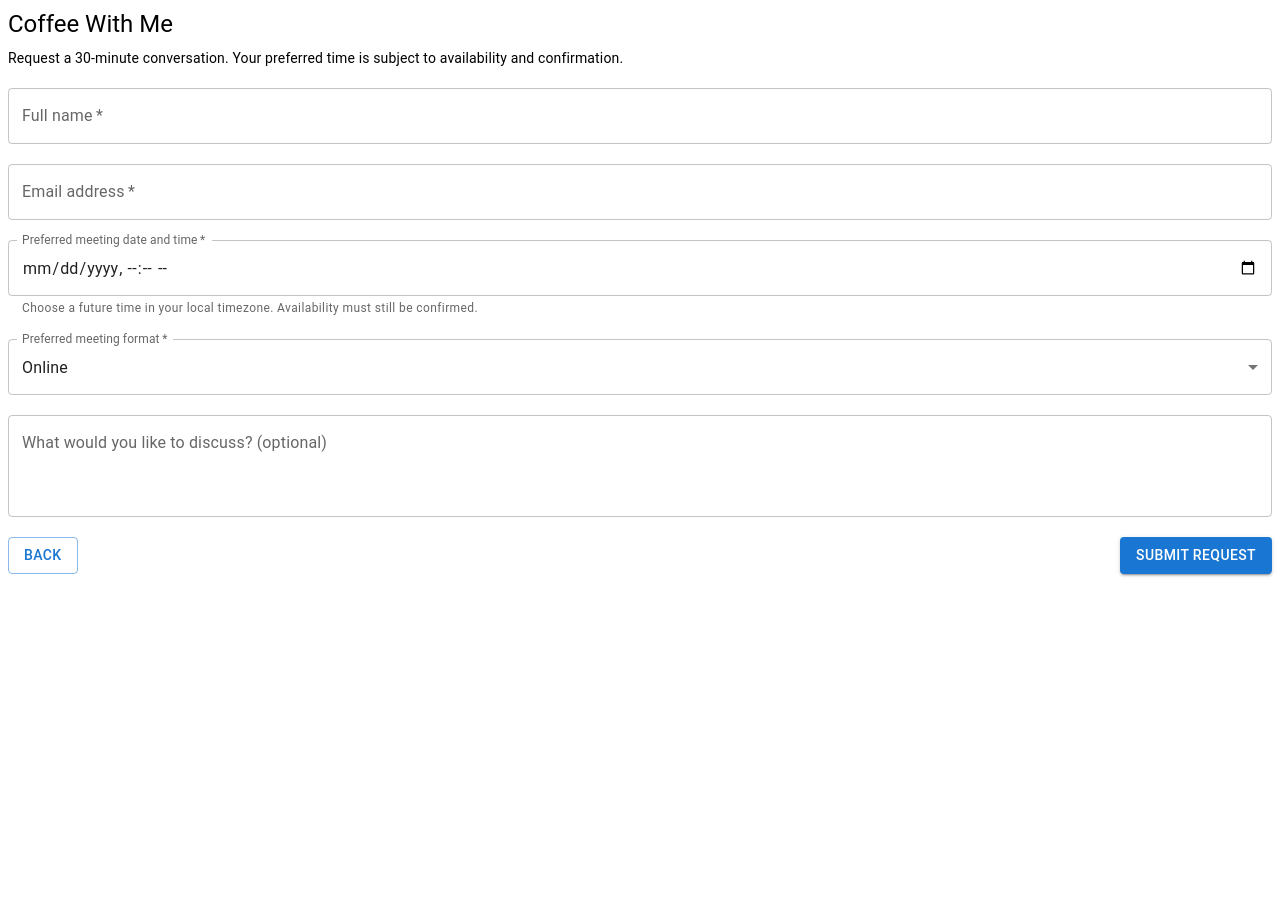
CoffeeWithMeForm › shows a validation error for an invalid email
Type "Test User" into the field labelled "Full name *".
click(640, 116); type("Test User")  # box [8,88,1272,144]
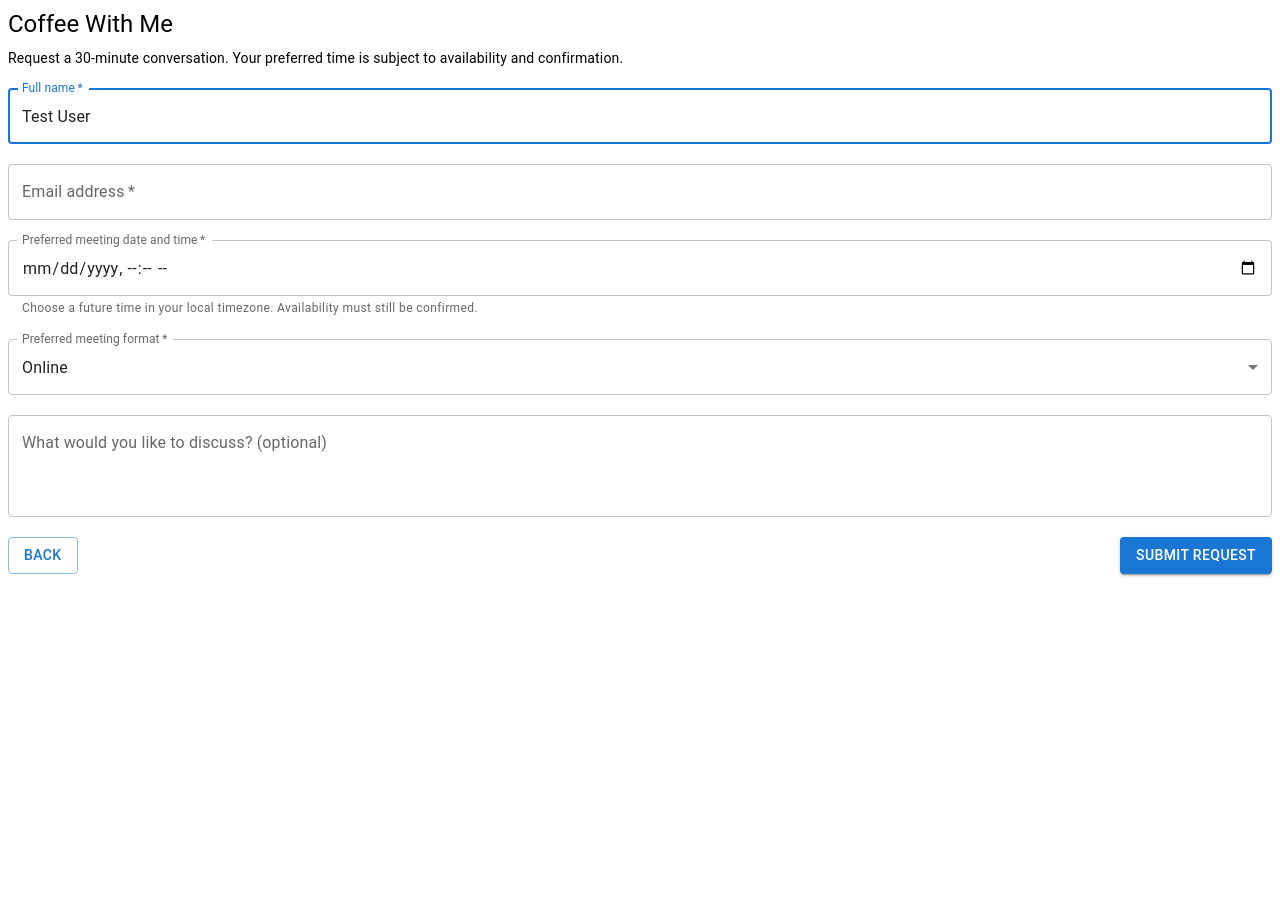
Type "invalid-email" into the field labelled "Email address *".
click(640, 192); type("invalid-email")  # box [8,164,1272,220]
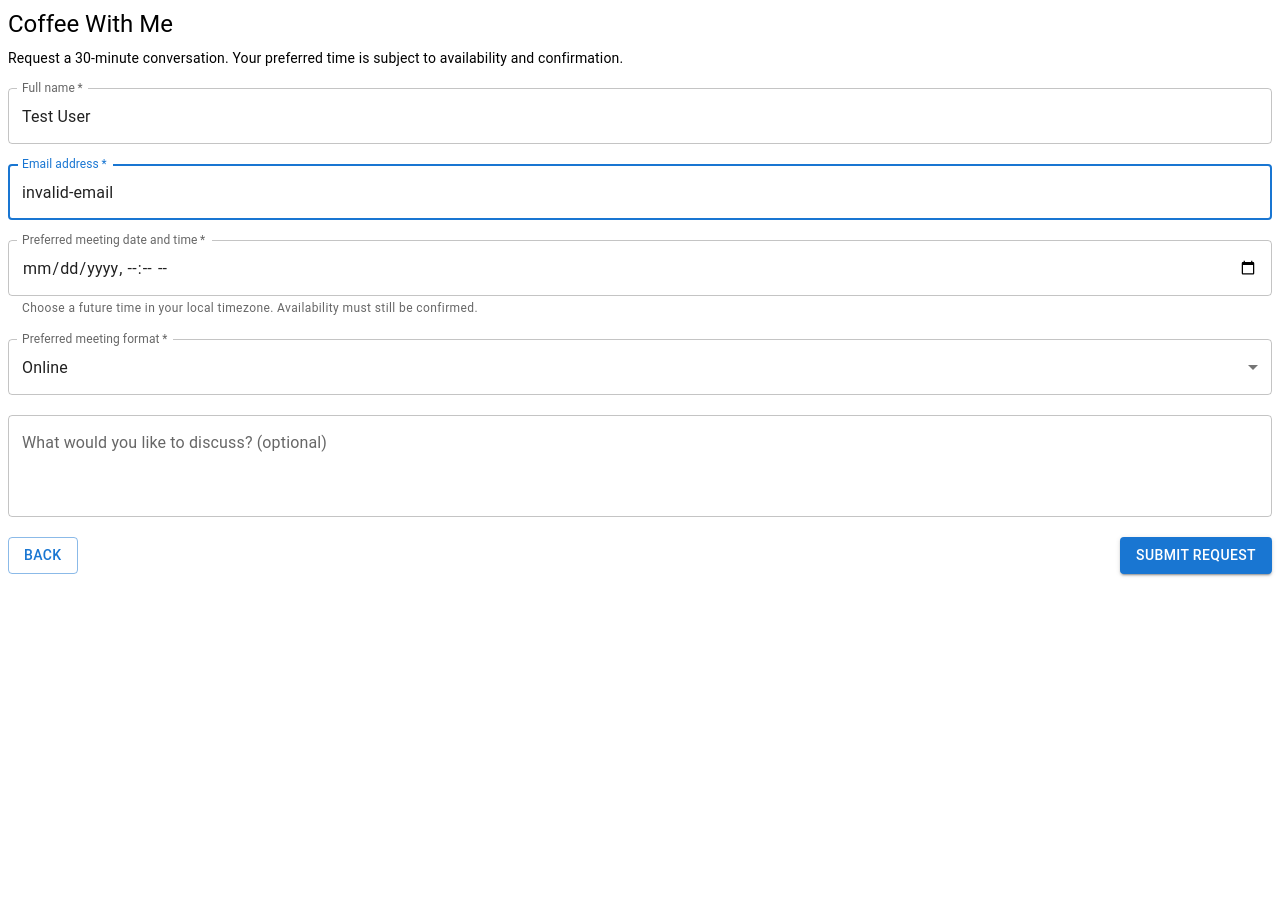
Click the button "Submit request".
click(1196, 556)  # box [1120,537,1272,574]
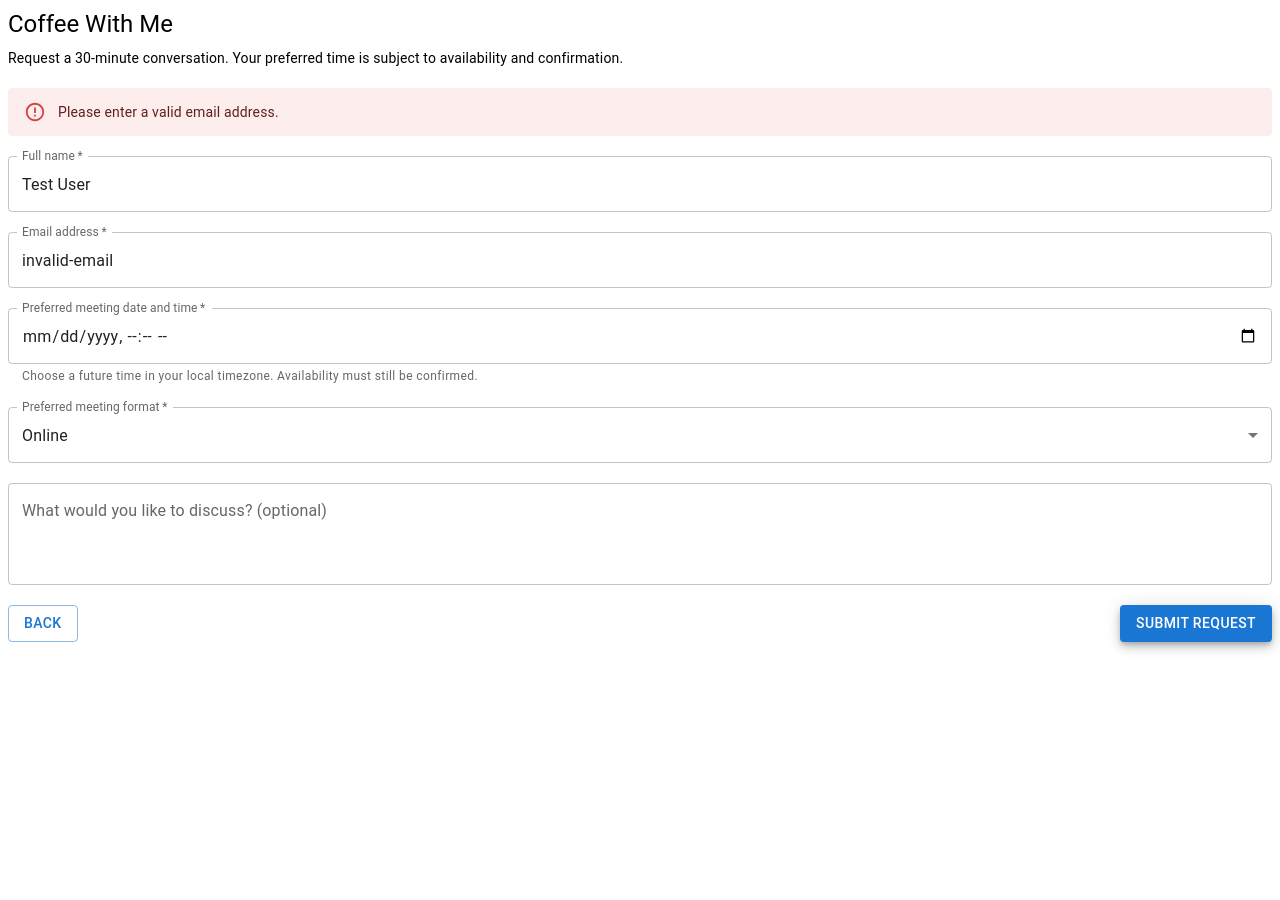
Expected: the message shows "valid email address", [58,104,279,120]
